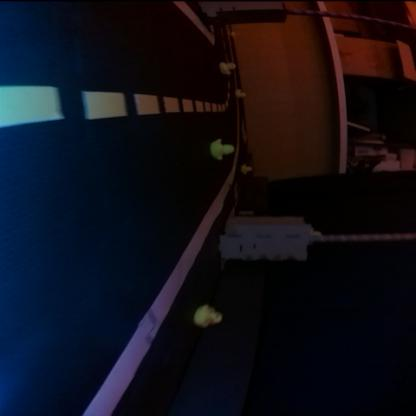Duckie: (196, 304, 222, 326), (213, 140, 235, 158), (221, 62, 237, 74), (243, 163, 253, 172), (238, 90, 246, 96)
